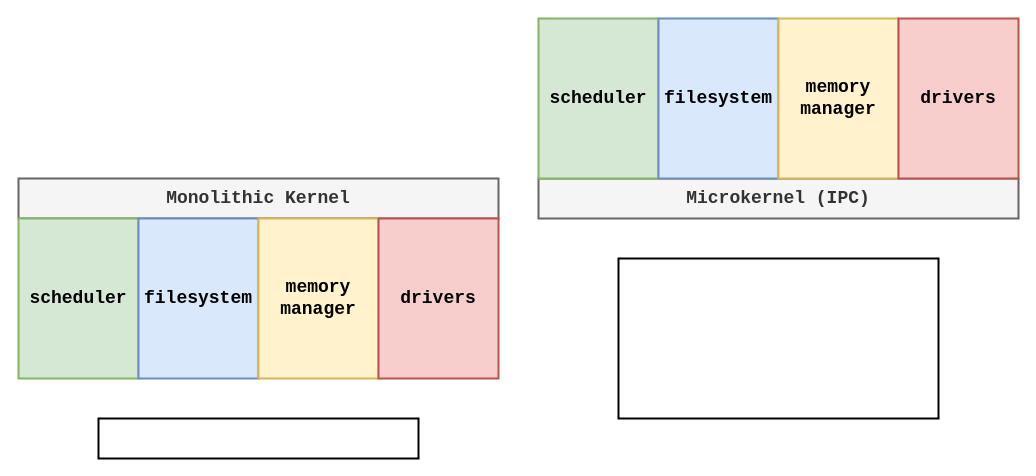
This 1036x476 diagram has some shape labels left out. Here are the shapes that lost their labels. From the top down, the centre of each, then its label:
(778,338): Separate address space + Protection! + Reliability! - Slower (context switch)
(258,438): Same address space
